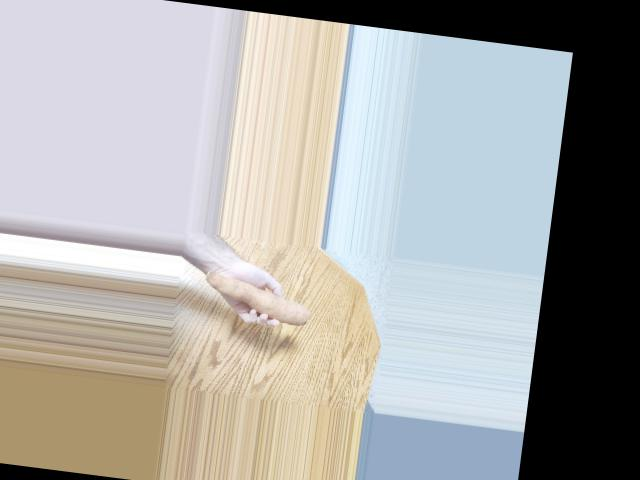sweet_potato: (206, 275, 308, 329)
